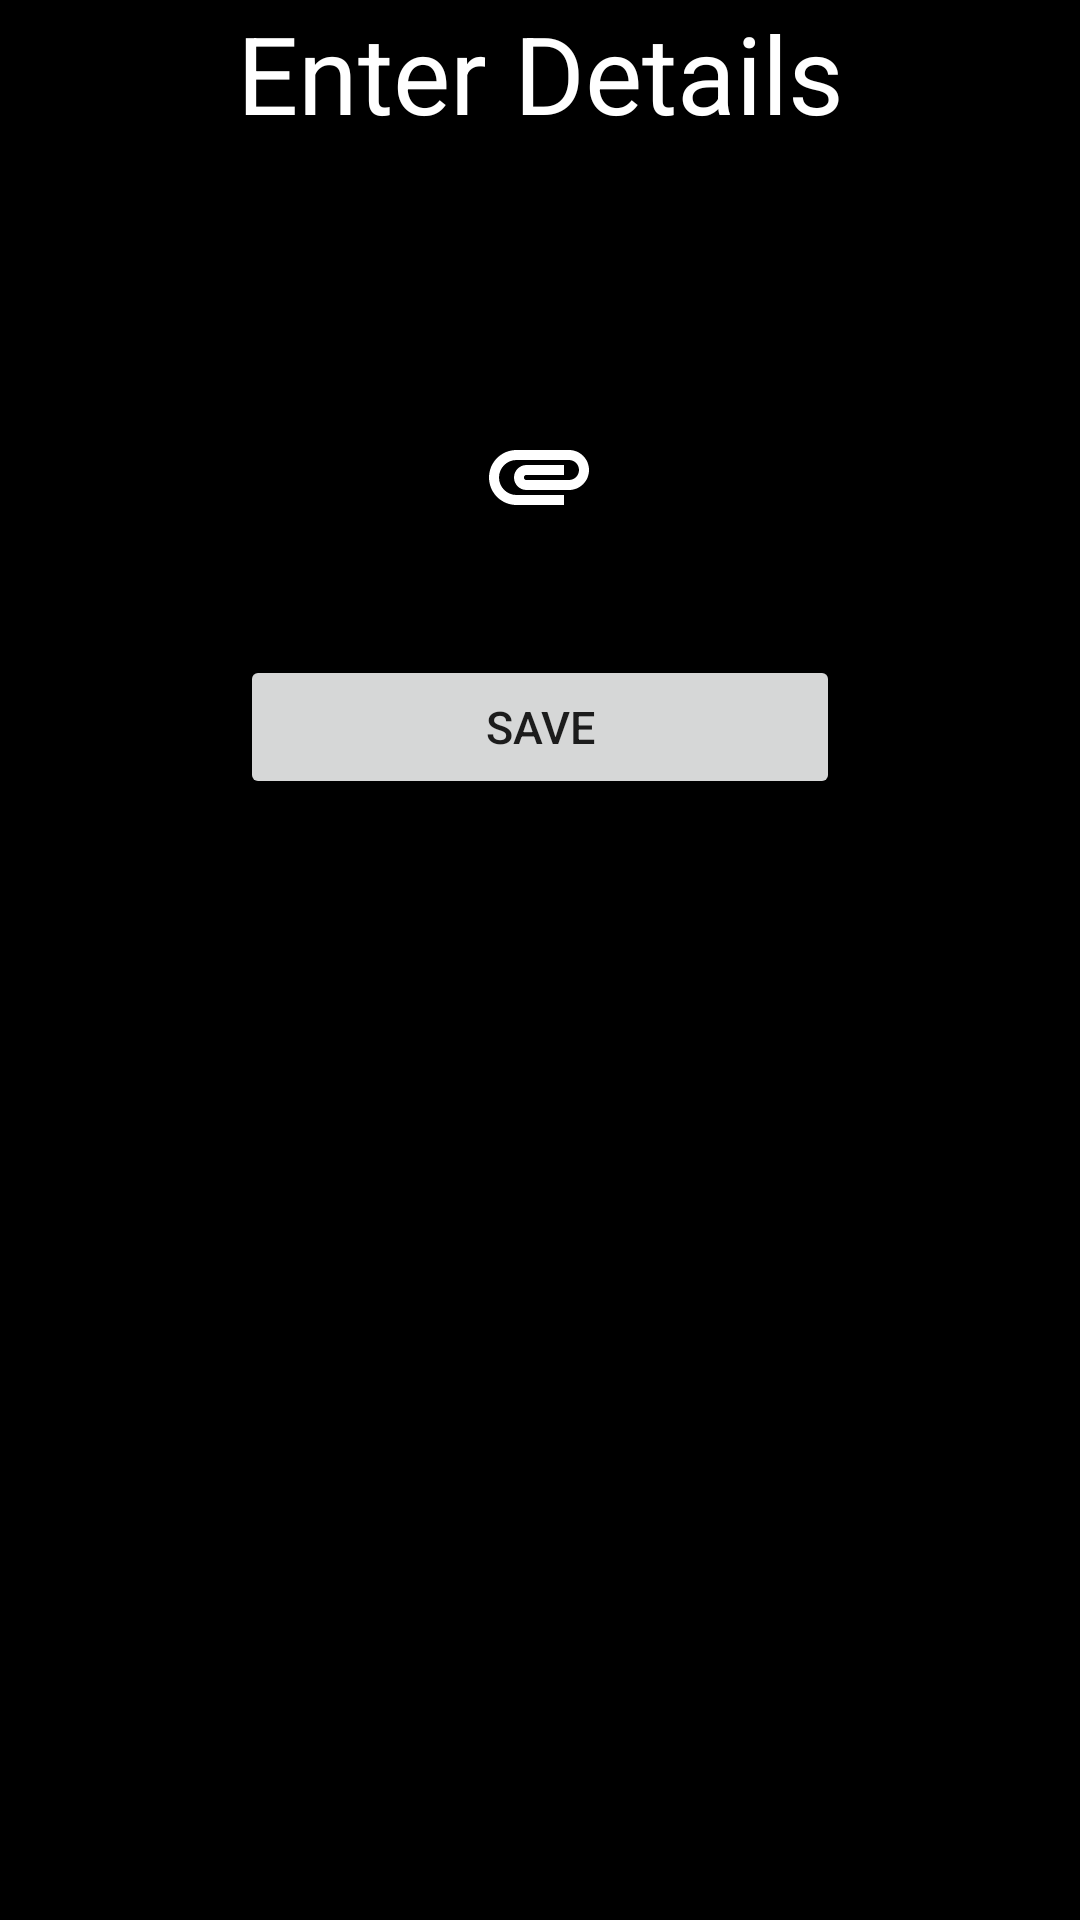

Icon click points for this 1080px×1920px phone screenshot, format (x,y):
attachment: (539,477)
